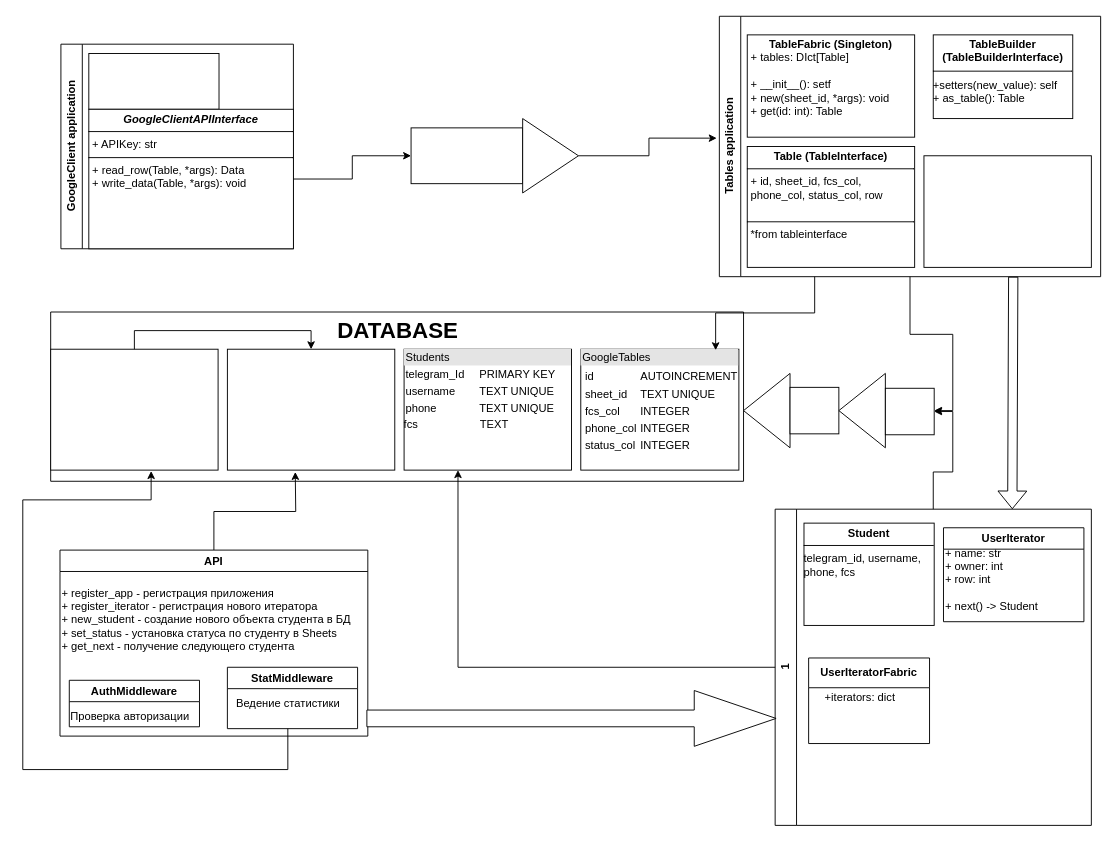
This 1117x842 diagram has some shape labels left out. The shapes that lost their labels are listed below. From the top down, each one's centre as x and y in pixels, then its label:
the point at 153,81: GoogleApiClient Singleton, implement GoogleClientAPIInterface
the point at 466,155: Адаптер
the point at 1007,211: TableInterface + get_next(): users.Student + set_status(): void
the point at 134,409: Stats id FOREIGN KEY Apps students_regs INTEGER students_sends INTEGER
the point at 310,409: Apps id AUTOINCREMENT name TEXT UNIQUE
the point at 814,410: Шифрование
the point at 909,411: Сериализация
